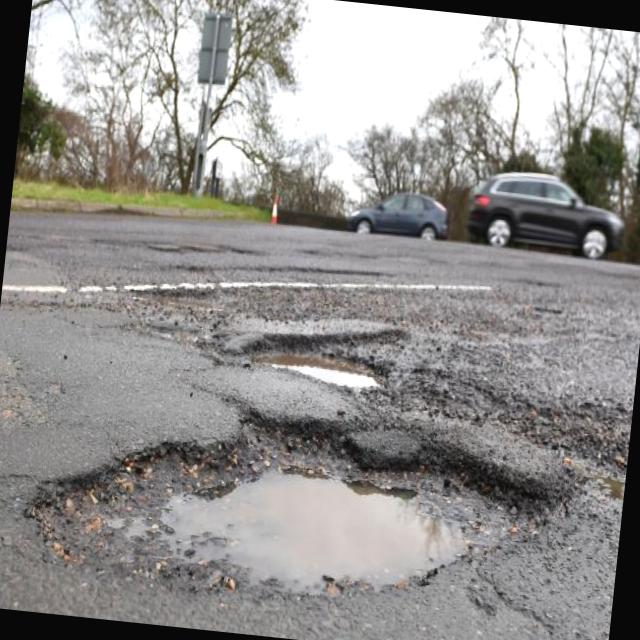bad-road: (19, 385, 557, 629), (233, 308, 404, 397)
